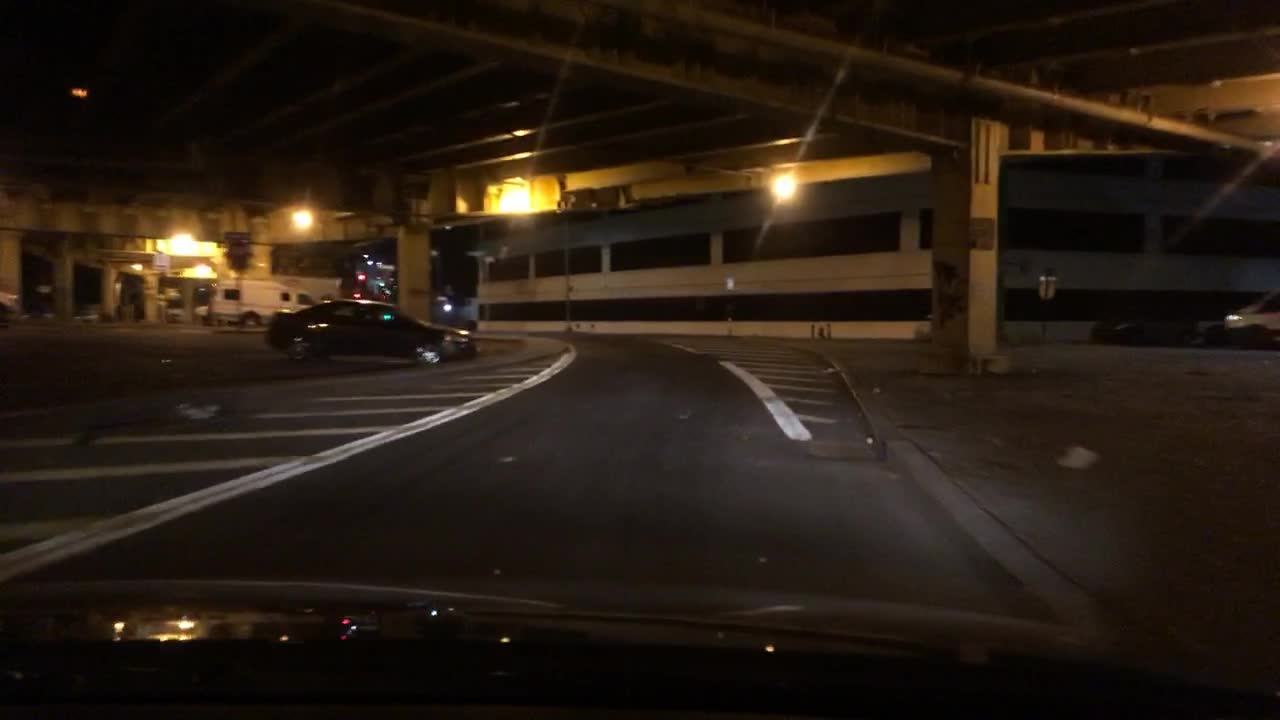car: (263, 299, 479, 364), (1090, 292, 1228, 346), (209, 272, 309, 336), (1219, 293, 1277, 347), (427, 288, 477, 332), (1, 287, 25, 341)
traffic light: (354, 266, 363, 287)
traffic sign: (219, 200, 256, 237)
